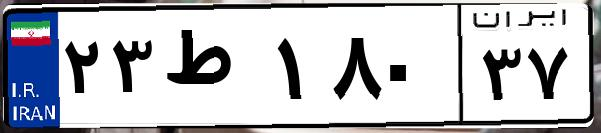0: (385, 28, 445, 110)
1: (270, 28, 330, 110)
2: (57, 26, 110, 100)
3: (475, 38, 525, 113), (110, 28, 158, 98)
7: (525, 38, 570, 115)
8: (330, 28, 385, 110)
ط: (158, 20, 270, 120)
